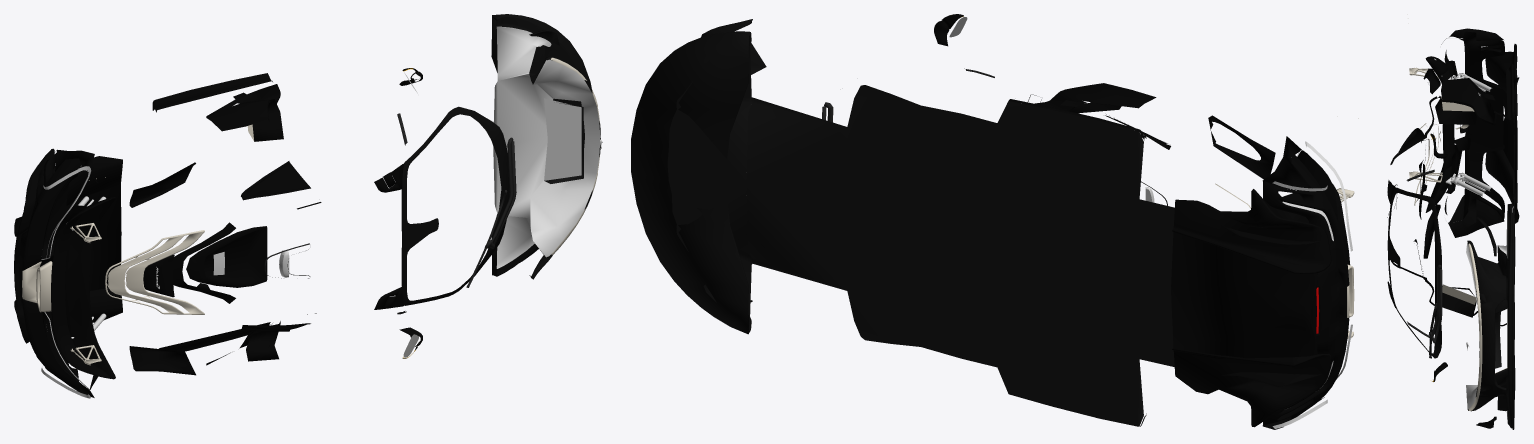
Rendered from chassisbottom.glb.
The picture shows the model from 3 angles, left to right: view 1: azimuth 30°, elevation 25°; view 2: azimuth 150°, elevation 25°; view 3: azimuth 270°, elevation 25°; orthographic projection. The views are drawn at different scales.
Visible parts, largest first — view 1: chassisbottom; view 2: chassisbottom; view 3: chassisbottom.
Boxes of the visible parts, box(x1,y1,x2,y2) form: chassisbottom: box(14, 14, 602, 398); chassisbottom: box(631, 14, 1358, 429); chassisbottom: box(1387, 14, 1519, 429).
Size of the model in its own units: 2.42 by 1.12 by 0.5447.
